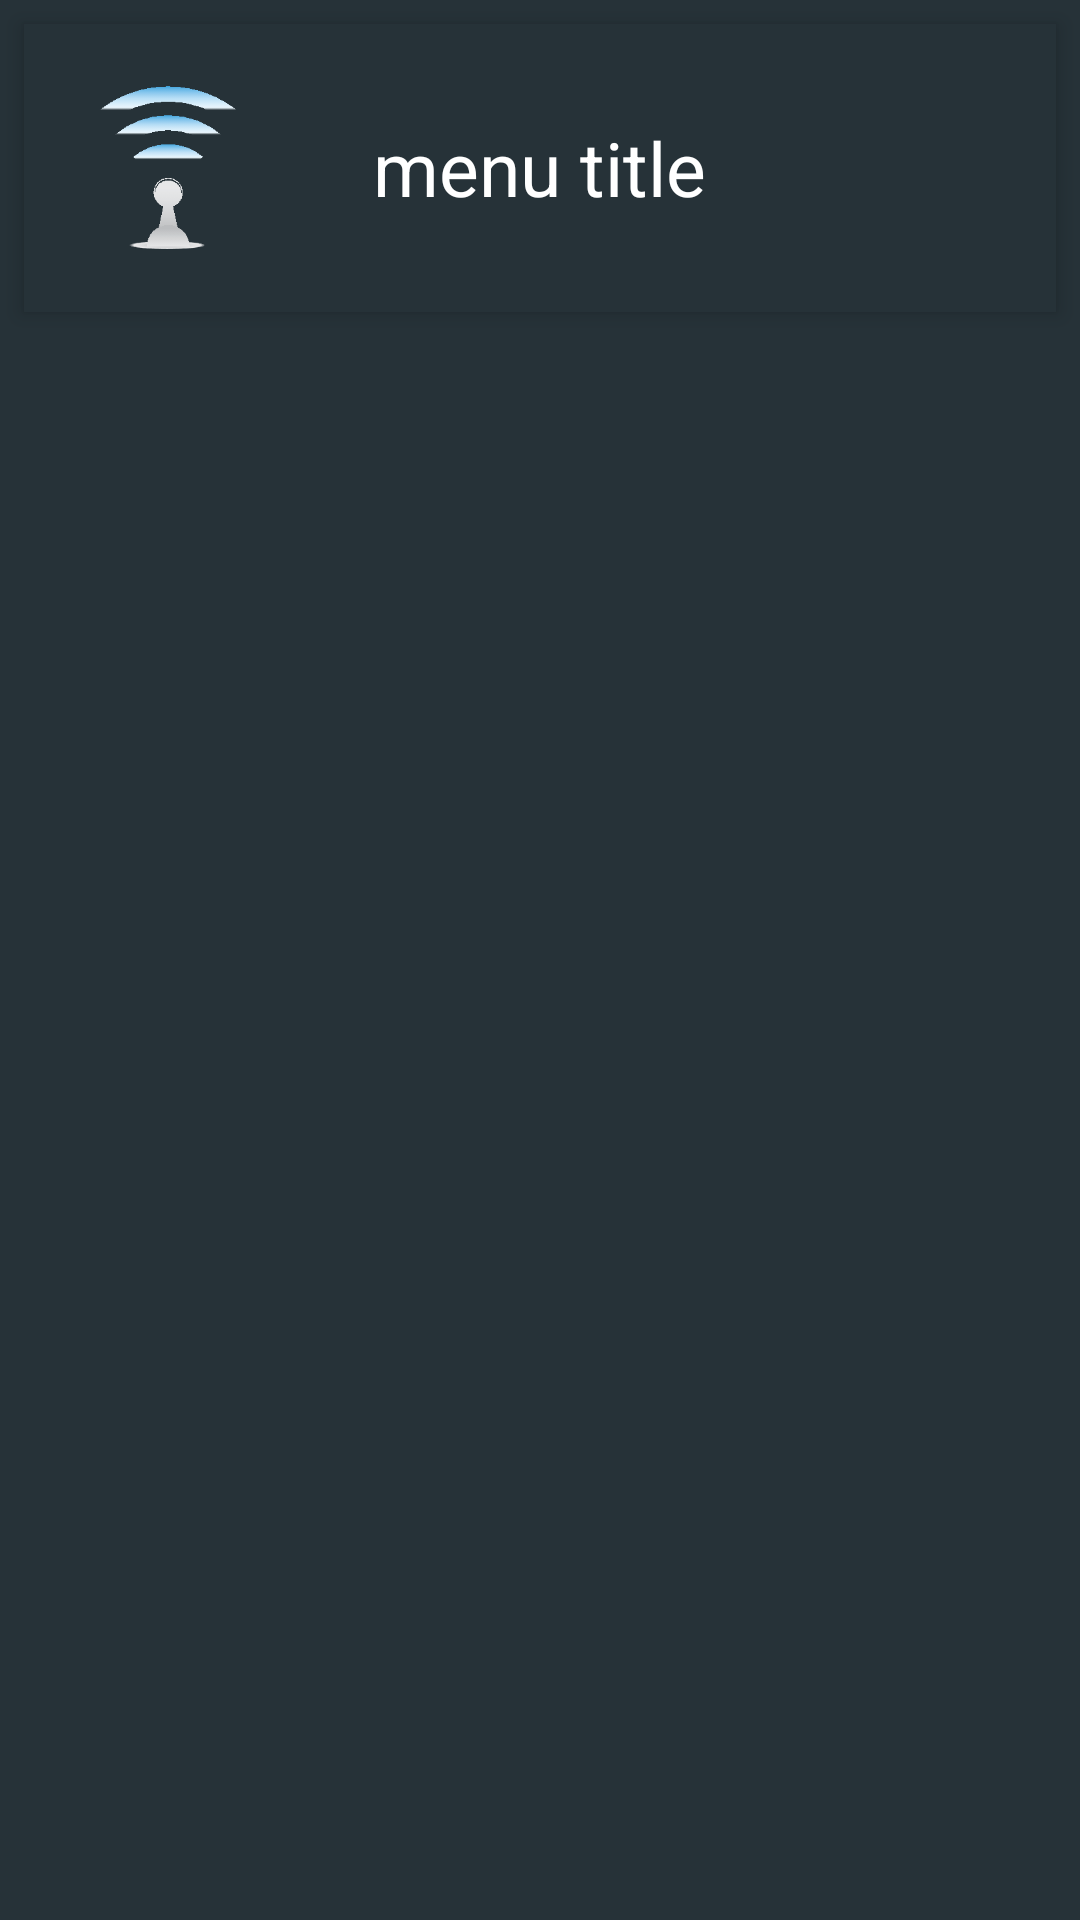

Where icons sit on this 1080 x 1920 app screen, as (x1, y1, x2, y2):
radar: (101, 86, 236, 249)
